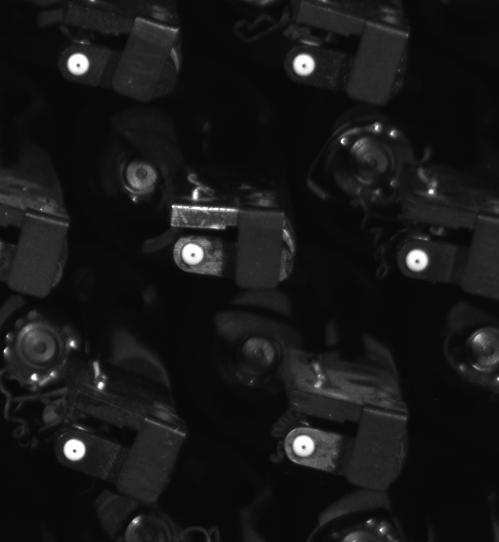fiber: (60, 46, 97, 81), (285, 50, 323, 82), (177, 237, 211, 270), (403, 241, 432, 278), (58, 435, 91, 466), (289, 432, 321, 463)
